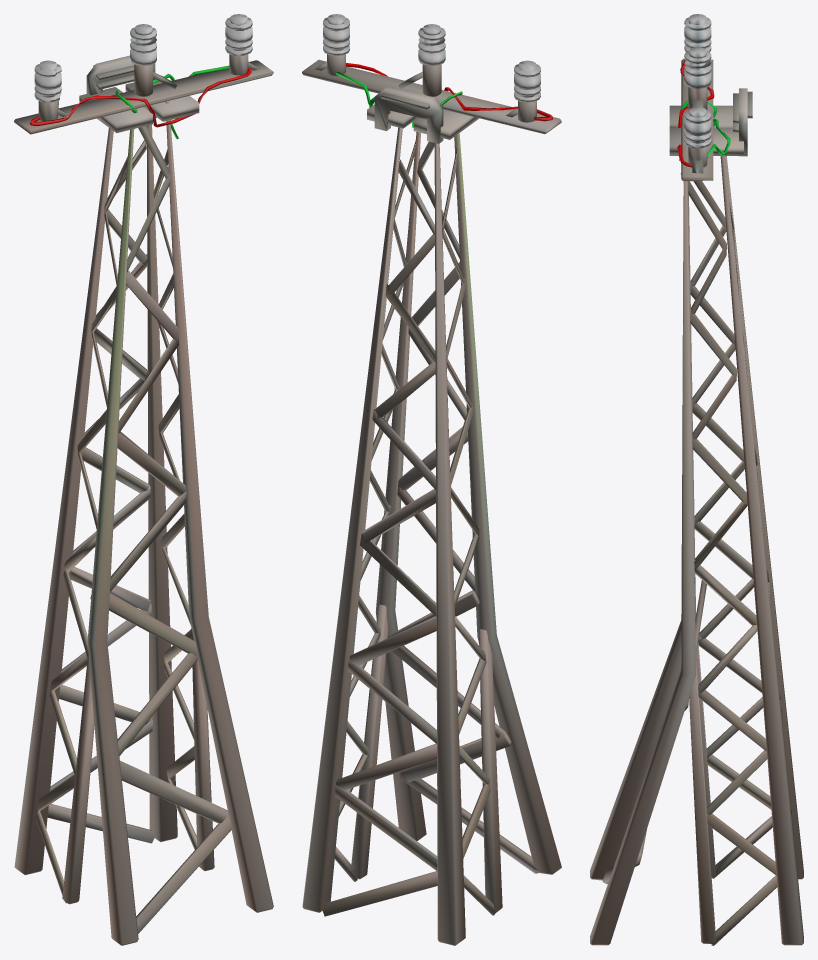
Rendered from medium-electric-pole.glb.
The picture shows the model from 3 angles, left to right: view 1: azimuth 30°, elevation 25°; view 2: azimuth 150°, elevation 25°; view 3: azimuth 270°, elevation 25°; orthographic projection.
Visible parts, largest first — view 1: modelo; view 2: modelo; view 3: modelo.
Boxes of the visible parts, bbox=[...] form: modelo: bbox=[14, 14, 273, 945]; modelo: bbox=[302, 14, 561, 945]; modelo: bbox=[590, 14, 803, 945].
Size of the model in its own units: 2.9 by 9.81 by 2.2.
